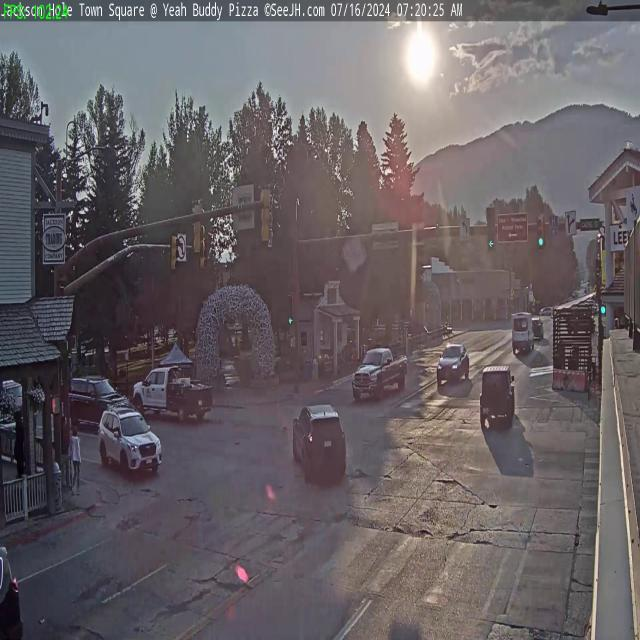person: (70, 424, 82, 496)
pickup: (129, 362, 210, 426), (350, 345, 409, 401)
sedan: (436, 340, 469, 386)
suv: (290, 401, 349, 487), (98, 406, 161, 478), (481, 362, 517, 432), (66, 376, 100, 433)
traffic light: (190, 199, 204, 256), (260, 184, 272, 246), (487, 207, 496, 248), (171, 233, 179, 272), (537, 215, 546, 248)
van: (512, 312, 533, 354)
